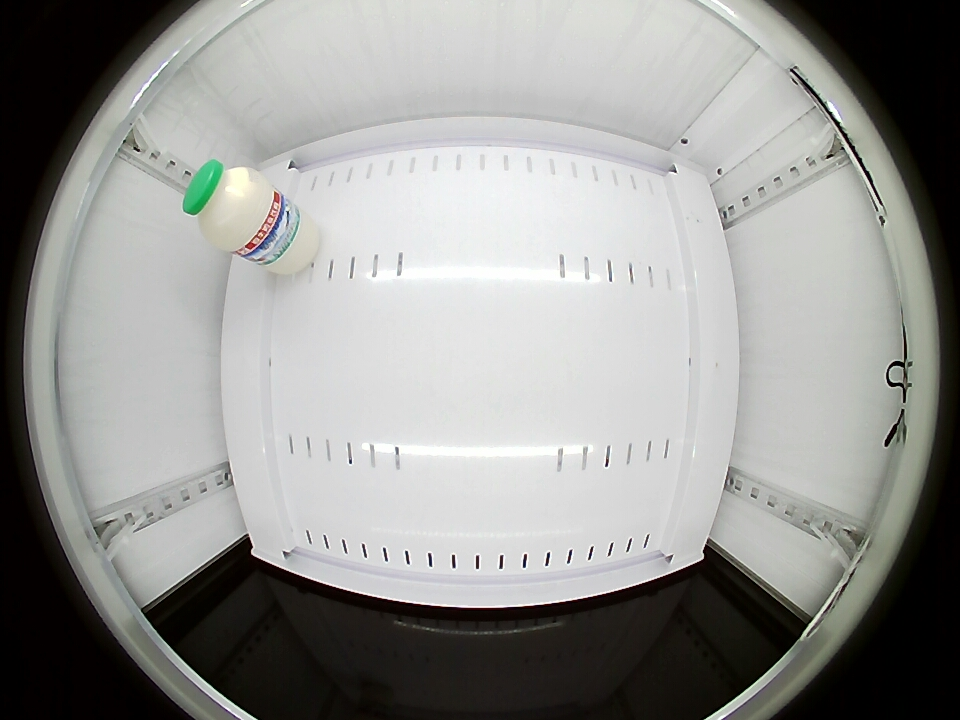liziyuan: (181, 159, 277, 255)
